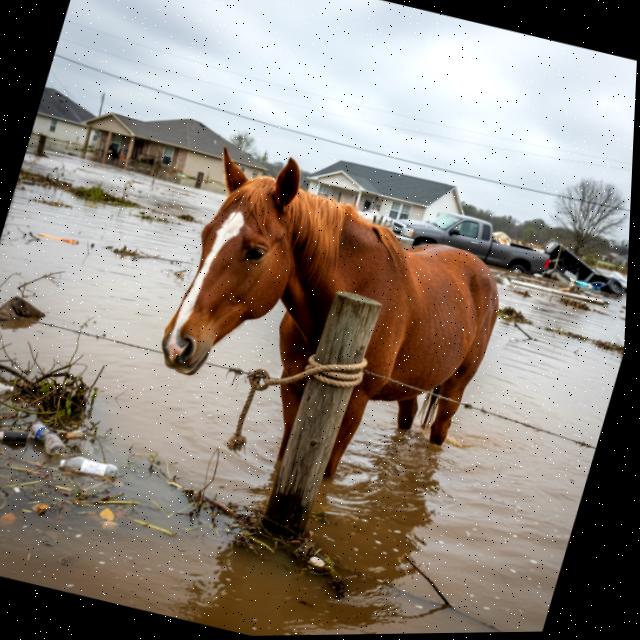horse: (98, 118, 552, 546)
